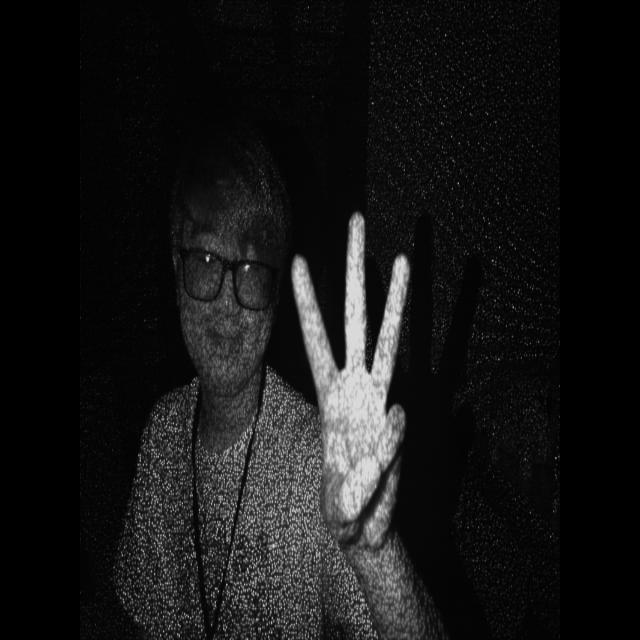W: (274, 190, 430, 552)
